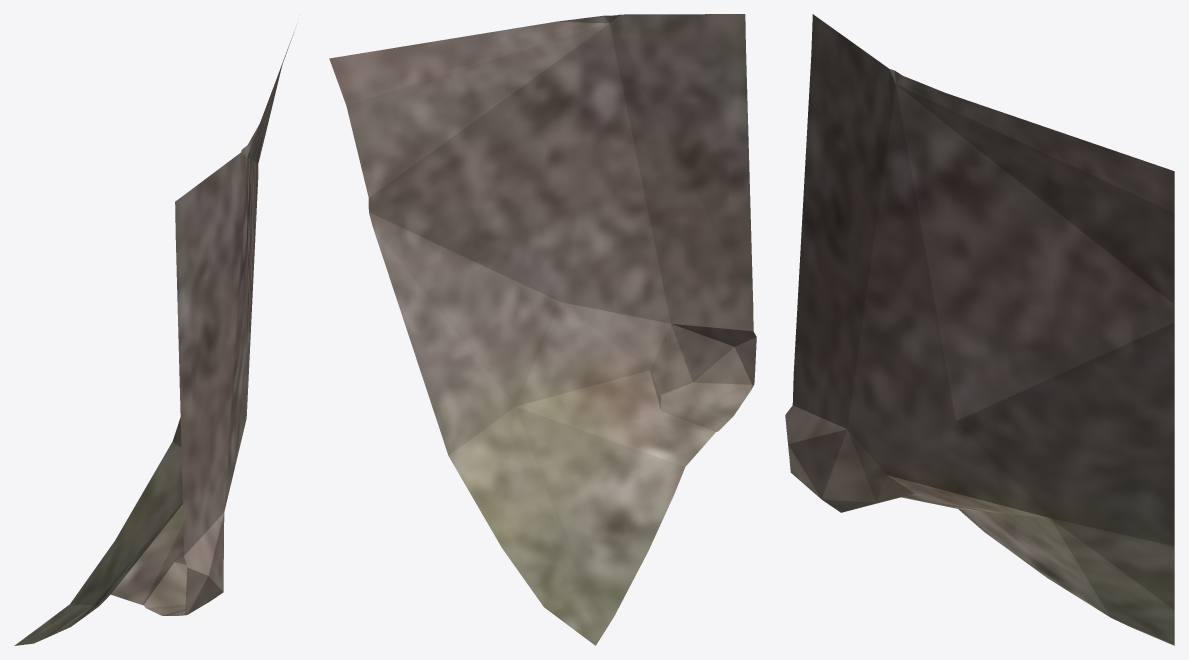
3 renders of one model, left to right at view 1: azimuth 30°, elevation 25°; view 2: azimuth 150°, elevation 25°; view 3: azimuth 270°, elevation 25°, orthographic. The views are drawn at different scales.
Size of the model in its own units: 1.47 by 2.76 by 1.54.
Materials: 1 (1 with a texture image).
